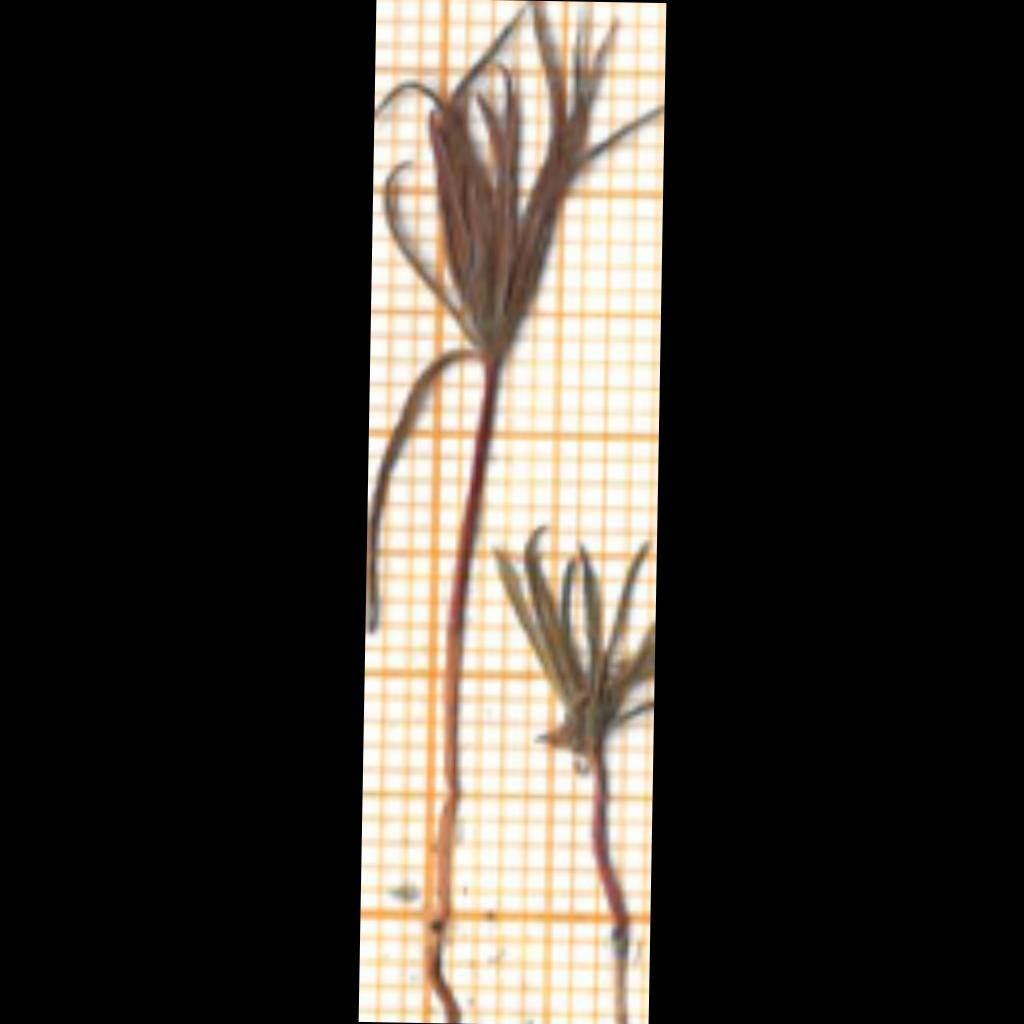flowerPinus: (366, 1, 614, 612), (495, 531, 655, 761)
stemPinus: (437, 363, 497, 924), (593, 749, 629, 941)
